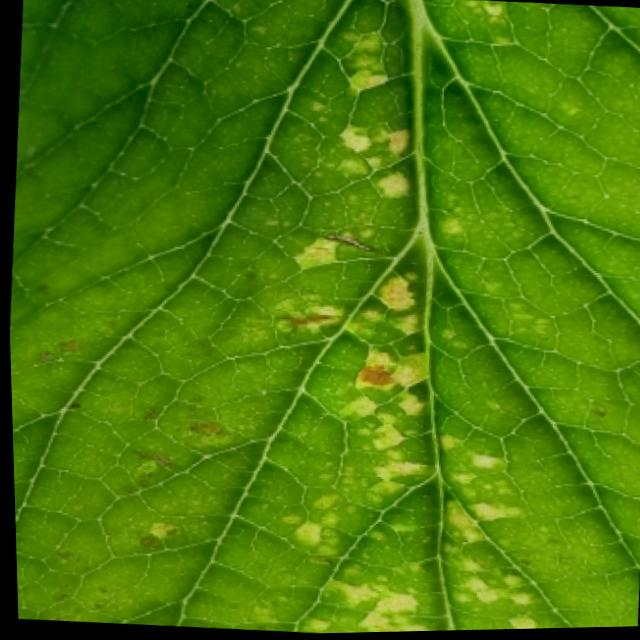Angular Leafspot: (8, 0, 611, 635)
